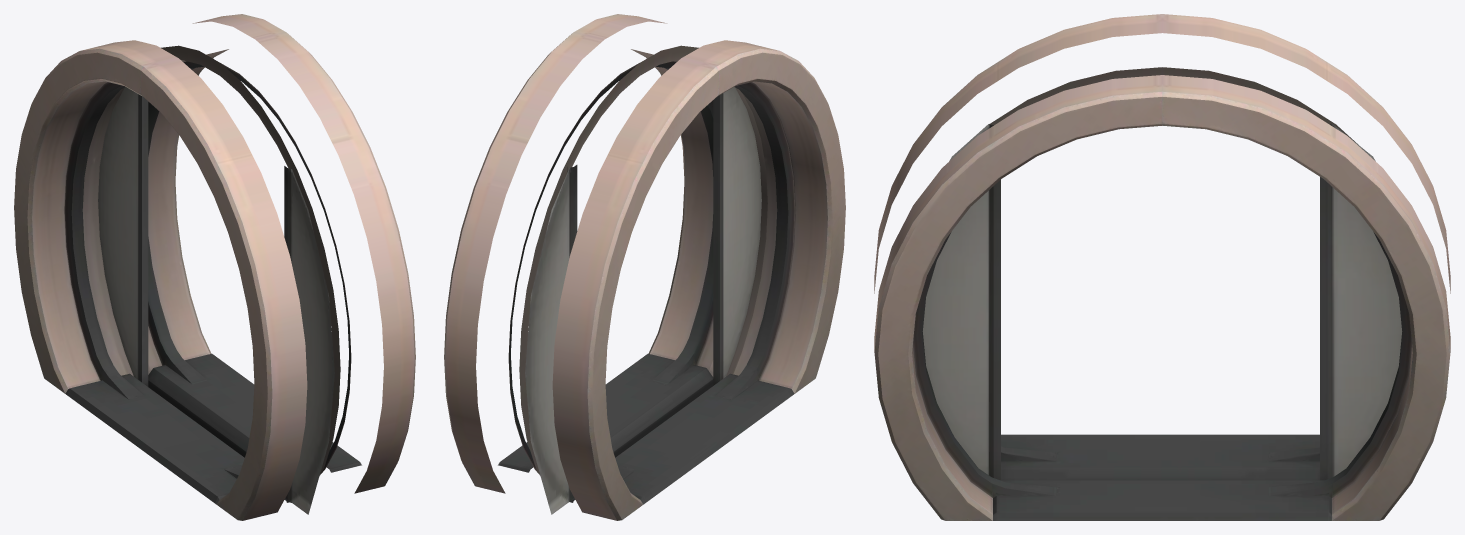
3 renders of one model, left to right at view 1: azimuth 30°, elevation 25°; view 2: azimuth 150°, elevation 25°; view 3: azimuth 270°, elevation 25°, orthographic. The views are drawn at different scales.
Parts seen in each view (by area): view 1: body0_model0_lod0_mesh0; view 2: body0_model0_lod0_mesh0; view 3: body0_model0_lod0_mesh0.
Boxes of the visible parts, x1,y1,x2,y2 form: body0_model0_lod0_mesh0: (14,14,415,520); body0_model0_lod0_mesh0: (444,14,845,520); body0_model0_lod0_mesh0: (874,14,1450,520).
Bounding box in the file's own units: 83.28 × 213 × 250.
1 material, 1 textured.
